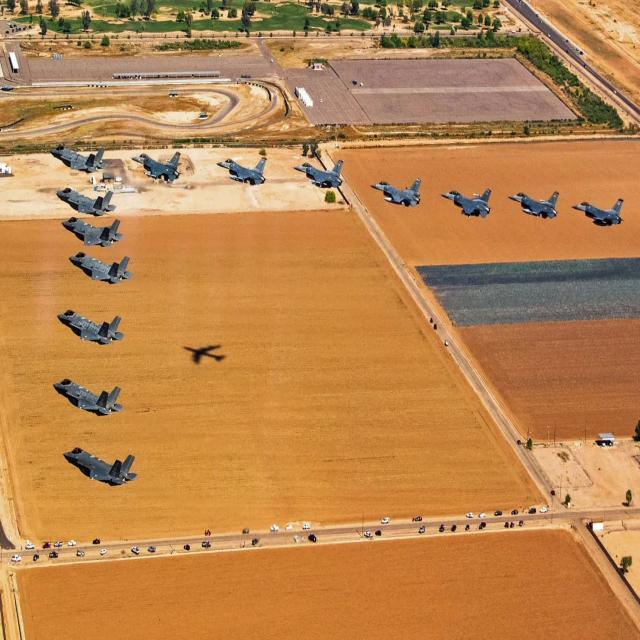MIL_Plane: (63, 447, 137, 487), (52, 378, 124, 417), (56, 309, 125, 346), (68, 251, 133, 285), (61, 216, 124, 248), (50, 144, 109, 174), (130, 150, 184, 182), (56, 188, 117, 216), (440, 188, 494, 218), (216, 156, 268, 187), (292, 159, 346, 188), (370, 178, 422, 208), (507, 190, 560, 219), (571, 198, 625, 226)
